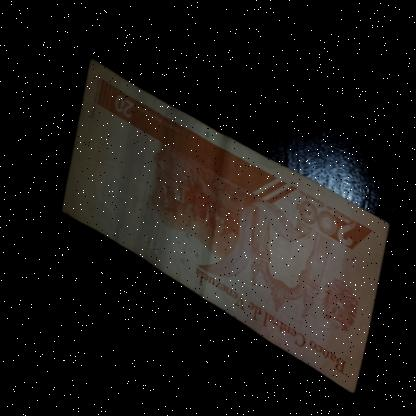twenty-back-vef: (36, 50, 406, 394)
